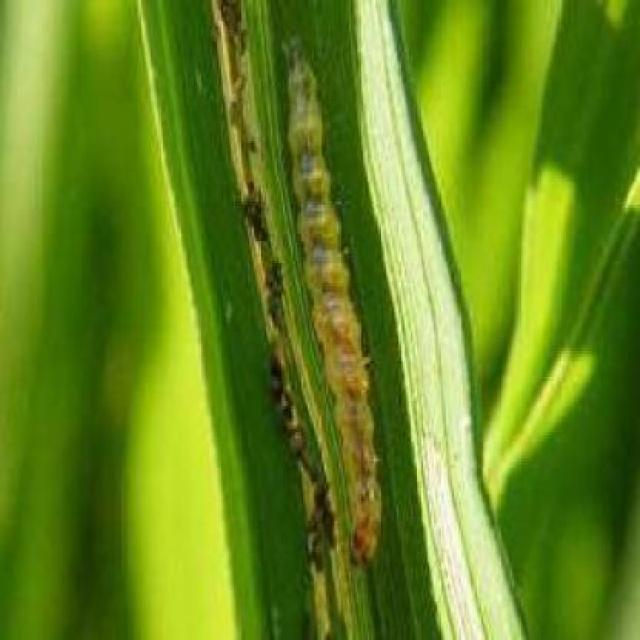leaf-folder: (263, 48, 405, 567)
